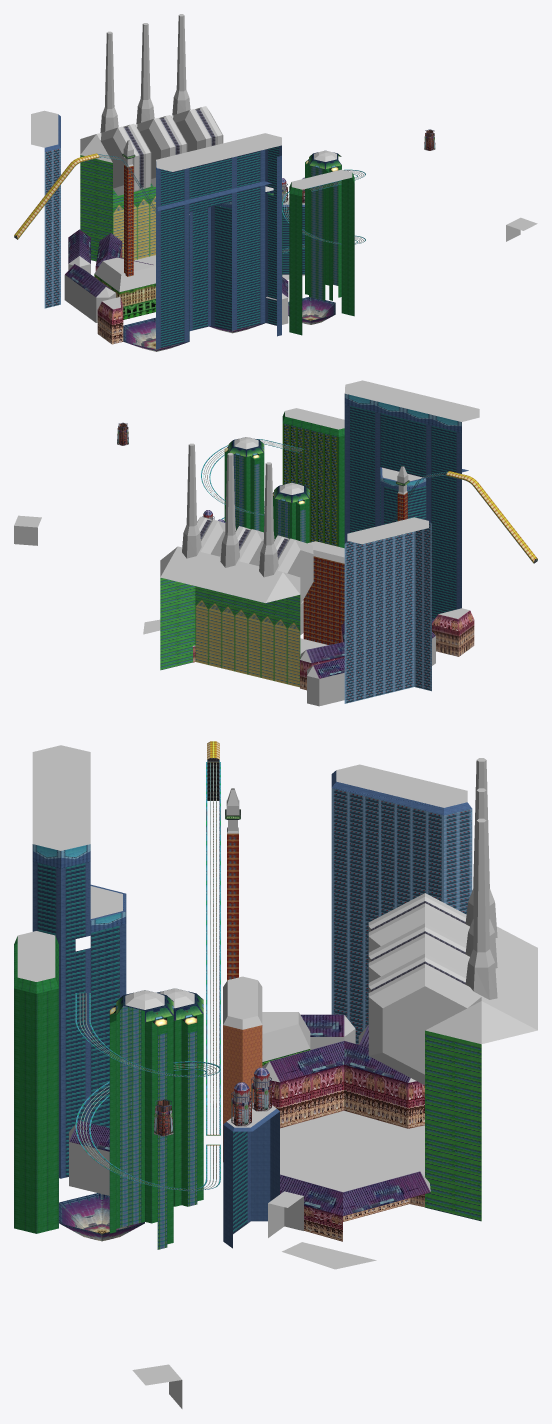
The model's file is City_Course3.obj.
3 views of the same model, one above another, from view 1: azimuth 30°, elevation 25°; view 2: azimuth 150°, elevation 25°; view 3: azimuth 270°, elevation 25° (orthographic). The views are drawn at different scales.
Parts seen in each view (by area): view 1: obj1, Object_2; view 2: obj1, Object_2, obj3; view 3: Object_2, obj1, obj3.
Boxes of the visible parts, left/top/right/bottom form: obj1: left=31, top=110, right=435, bottom=349; Object_2: left=14, top=14, right=537, bottom=351; obj1: left=117, top=404, right=461, bottom=703; Object_2: left=14, top=380, right=537, bottom=706; obj3: left=201, top=439, right=302, bottom=519; Object_2: left=32, top=741, right=537, bottom=1408; obj1: left=14, top=764, right=481, bottom=1249; obj3: left=76, top=993, right=219, bottom=1190.
Bounding box in the file's own units: 15381 × 6701 × 8042.
